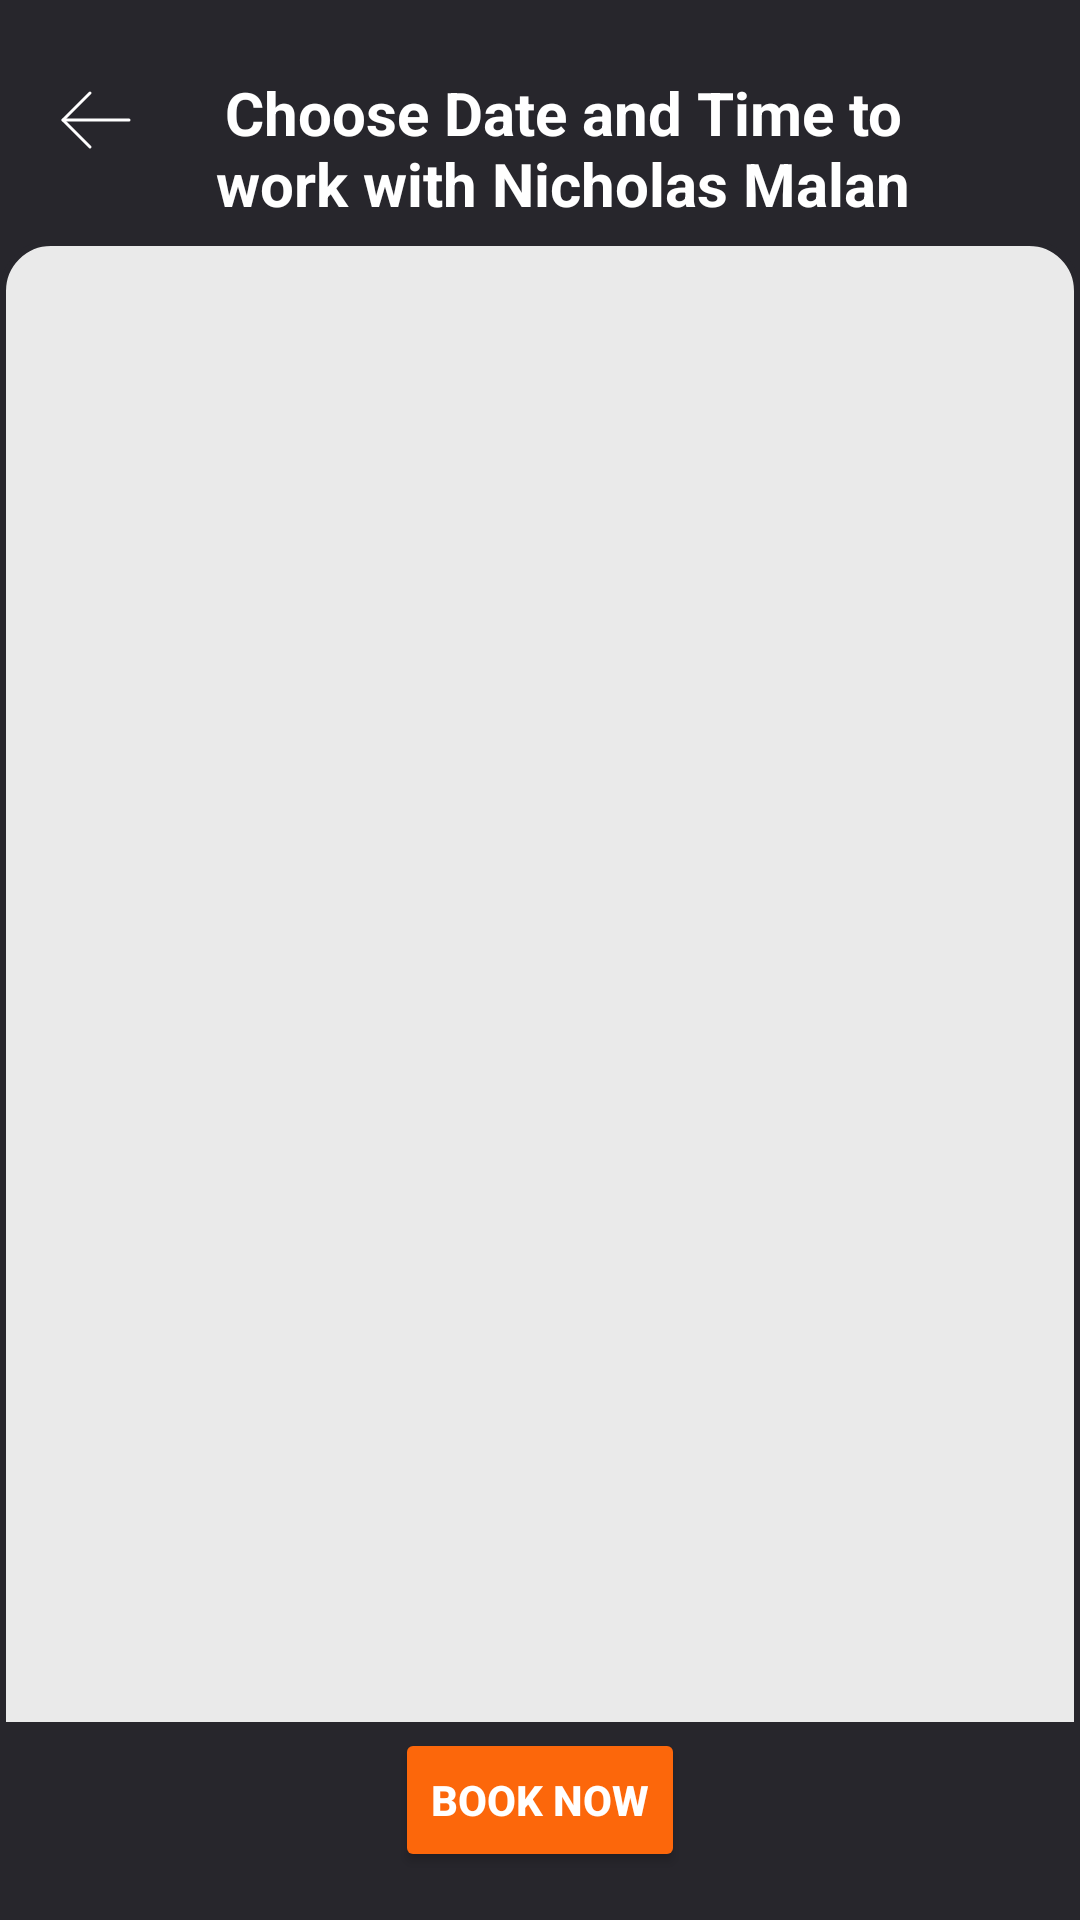

Icon click points for this 1080px x 1920px phone screenshot, format [x,y]:
Back: [96,120]
